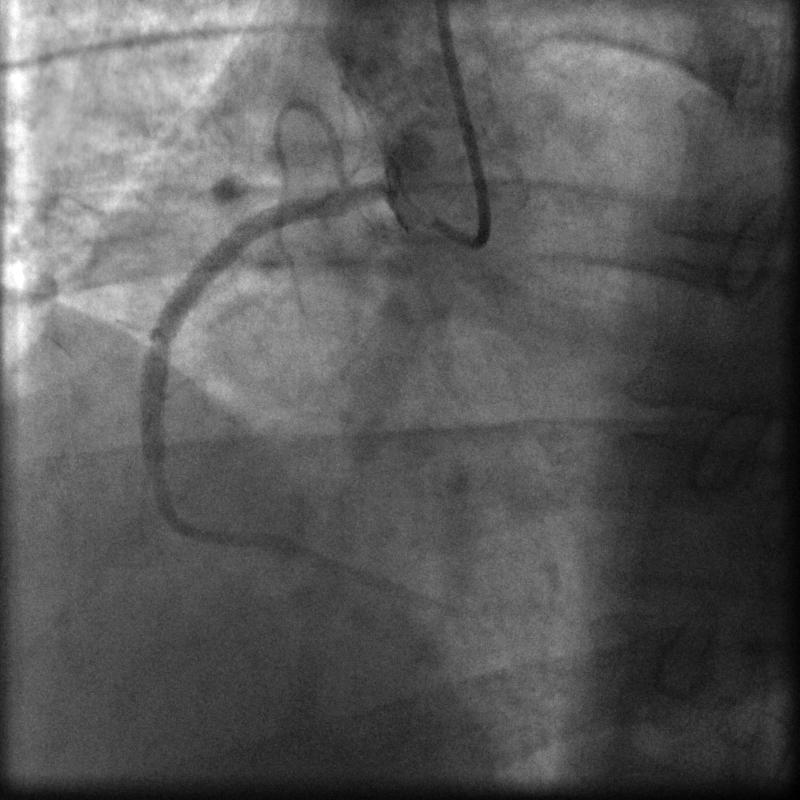Stenosis: (144, 448, 178, 511)
